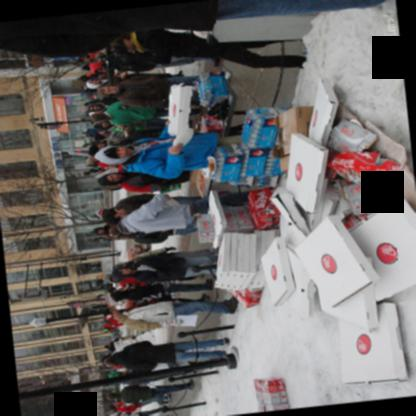backpack: (134, 50, 171, 67)
